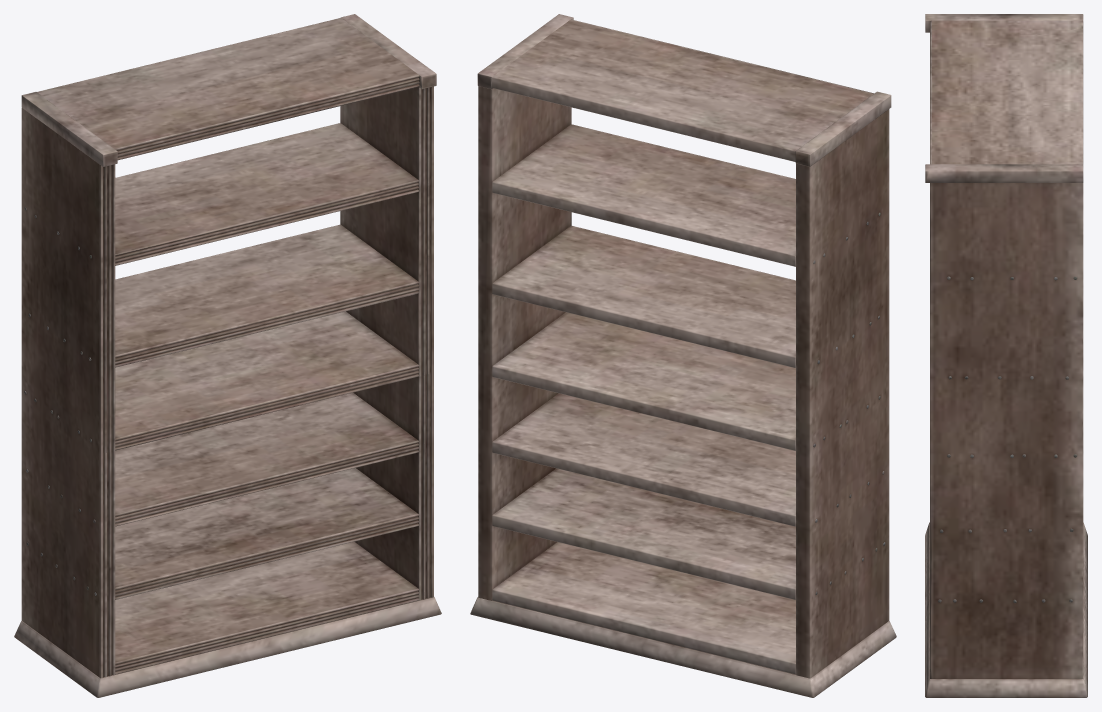
File: worn-bookshelf.glb
3 views of the same model, side by side, from view 1: azimuth 30°, elevation 25°; view 2: azimuth 150°, elevation 25°; view 3: azimuth 270°, elevation 25° (orthographic). The views are drawn at different scales.
Visible parts, largest first — view 1: wooden_bookshelf_worn; view 2: wooden_bookshelf_worn; view 3: wooden_bookshelf_worn.
Boxes of the visible parts, x1=… form: wooden_bookshelf_worn: x1=14, y1=14, x2=441, y2=697; wooden_bookshelf_worn: x1=470, y1=14, x2=896, y2=697; wooden_bookshelf_worn: x1=925, y1=14, x2=1087, y2=697.
Bounding box in the file's own units: 1.37 × 2.06 × 0.5814.
1 material, 1 textured.
